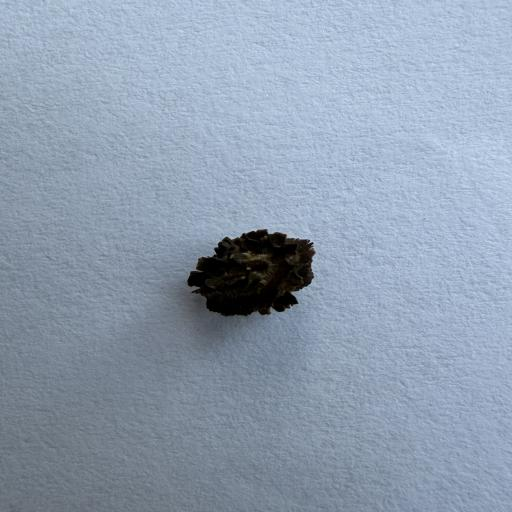papaya_seed: (161, 208, 334, 338)
